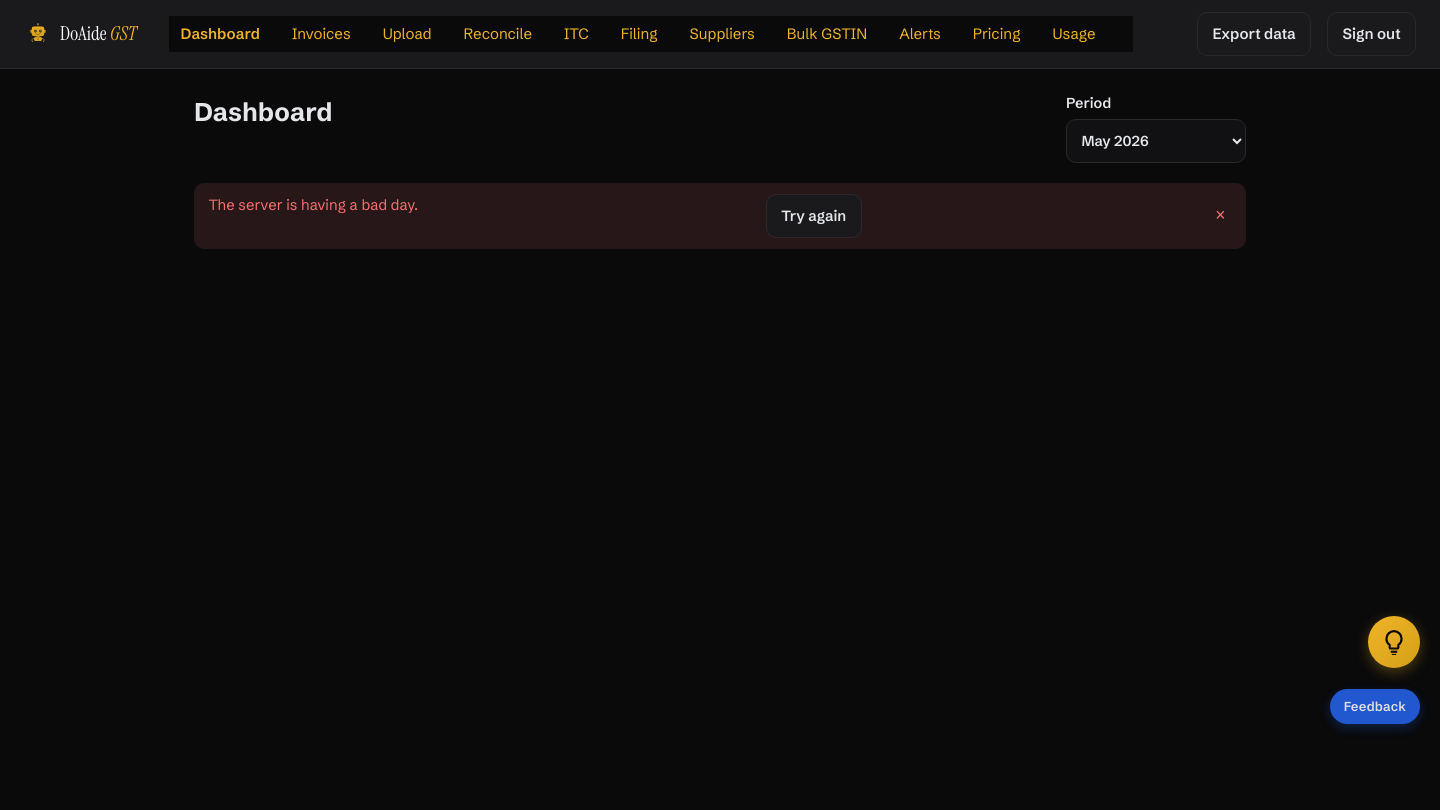
dismissing the error a page reports › / lets the user close it
The image size is (1440, 810).
Step 1. Click the button named "Dismiss" → (1220,216), box [1209, 194, 1232, 238]
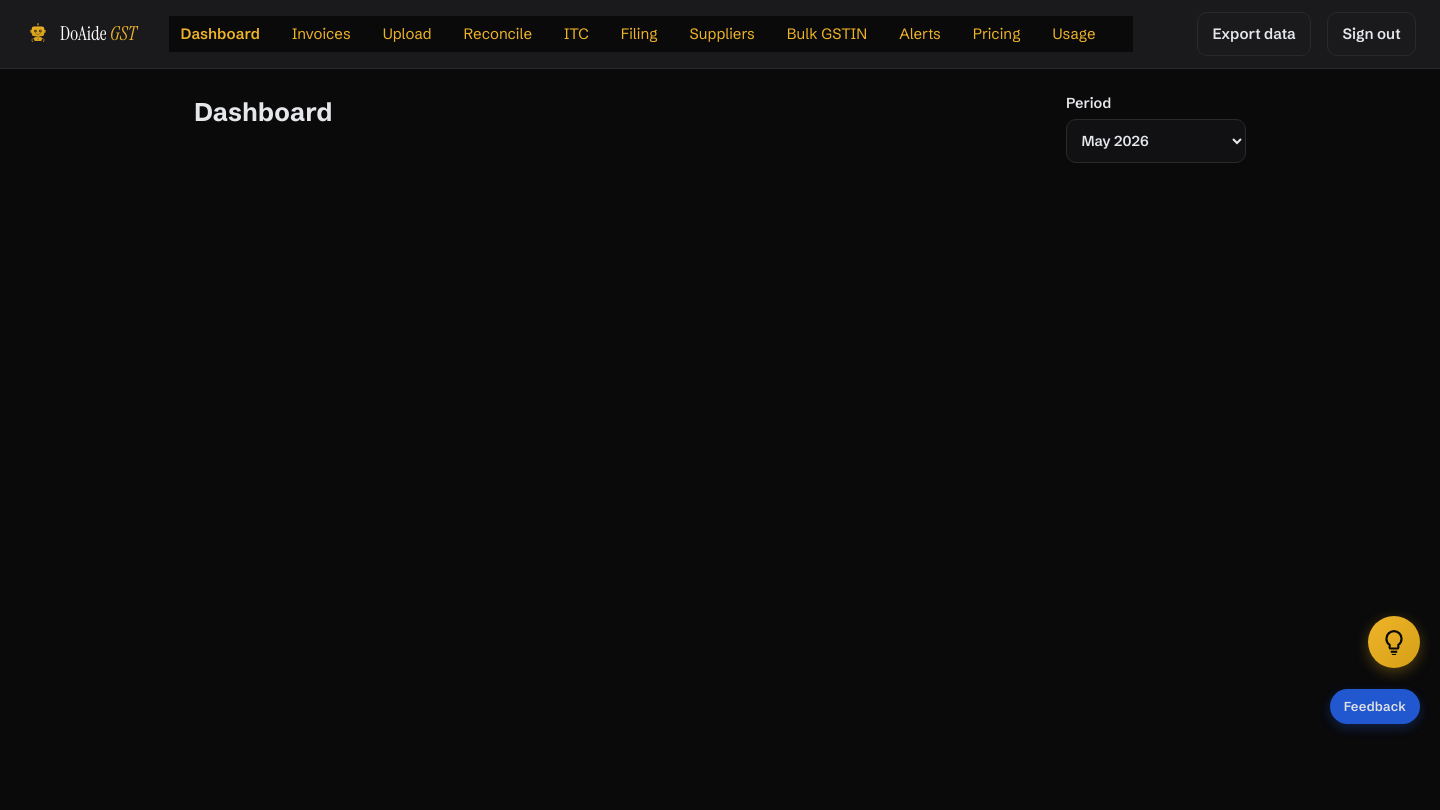
Expected: the link "Dashboard" is shown, [169, 16, 272, 52]
Expected: the message "The server is having a bad day. Try again ×" is gone
